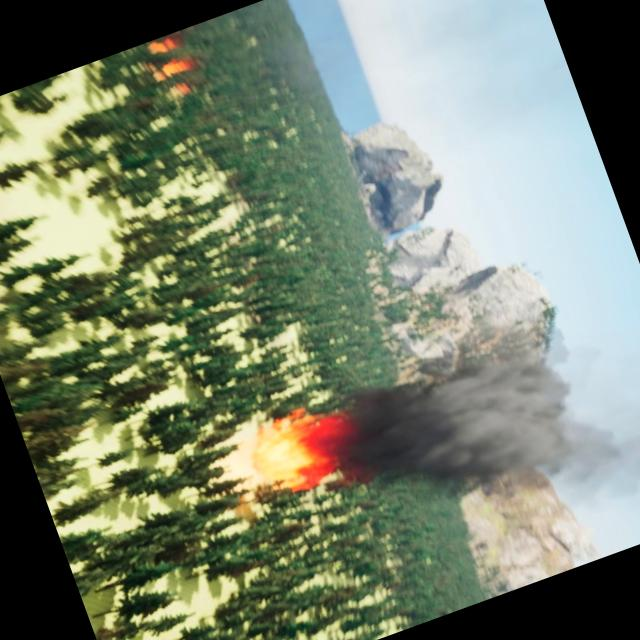fire: (250, 396, 364, 506), (140, 30, 202, 104)
smoke: (347, 287, 640, 598)
